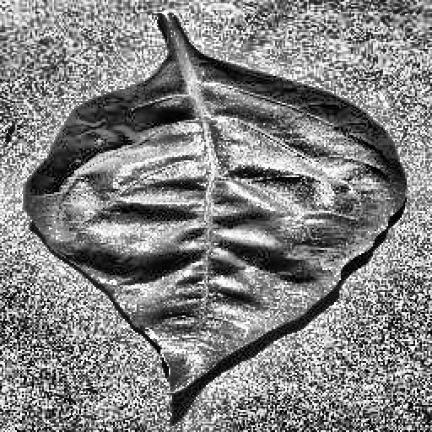leaf: (25, 14, 405, 395)
